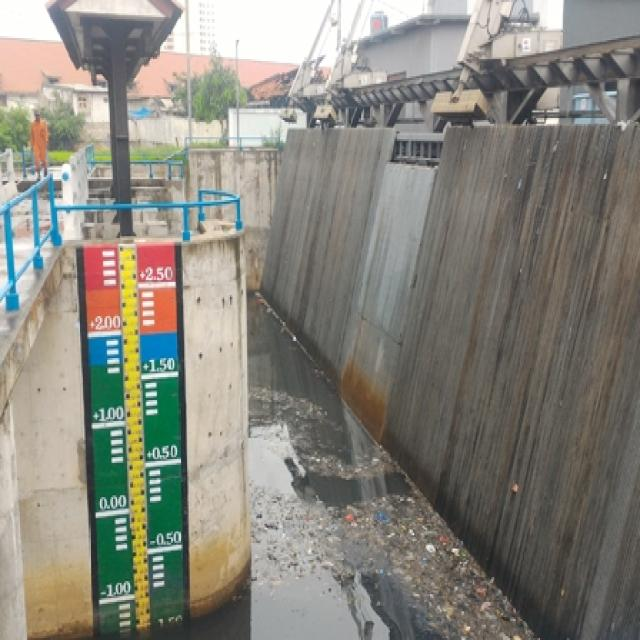ruler: (67, 225, 203, 640)
value: (140, 350, 176, 378), (98, 577, 136, 603), (136, 264, 179, 286), (144, 441, 180, 466), (147, 525, 183, 550), (91, 400, 125, 426), (95, 488, 130, 513), (88, 309, 121, 333)
